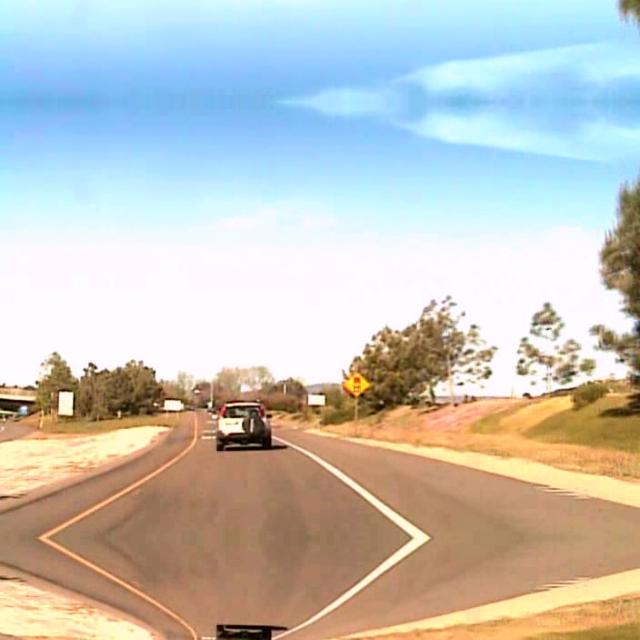signalAhead: (341, 370, 369, 396)
